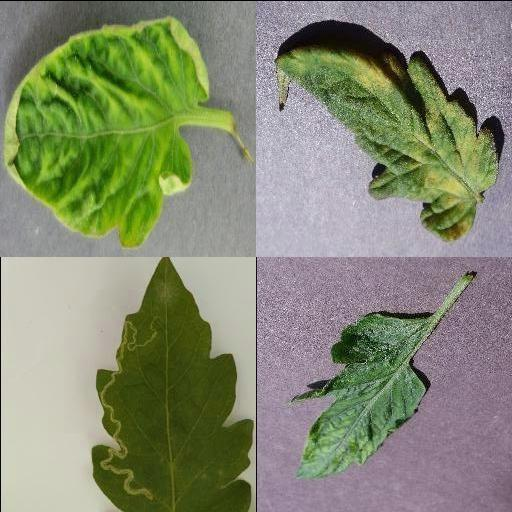Leaf Miner: (88, 256, 253, 512)
Leaf Mold: (273, 44, 497, 241)
Mosaic Virus: (288, 311, 436, 481)
Yellow Leaf Curl Virus: (3, 14, 211, 246)
